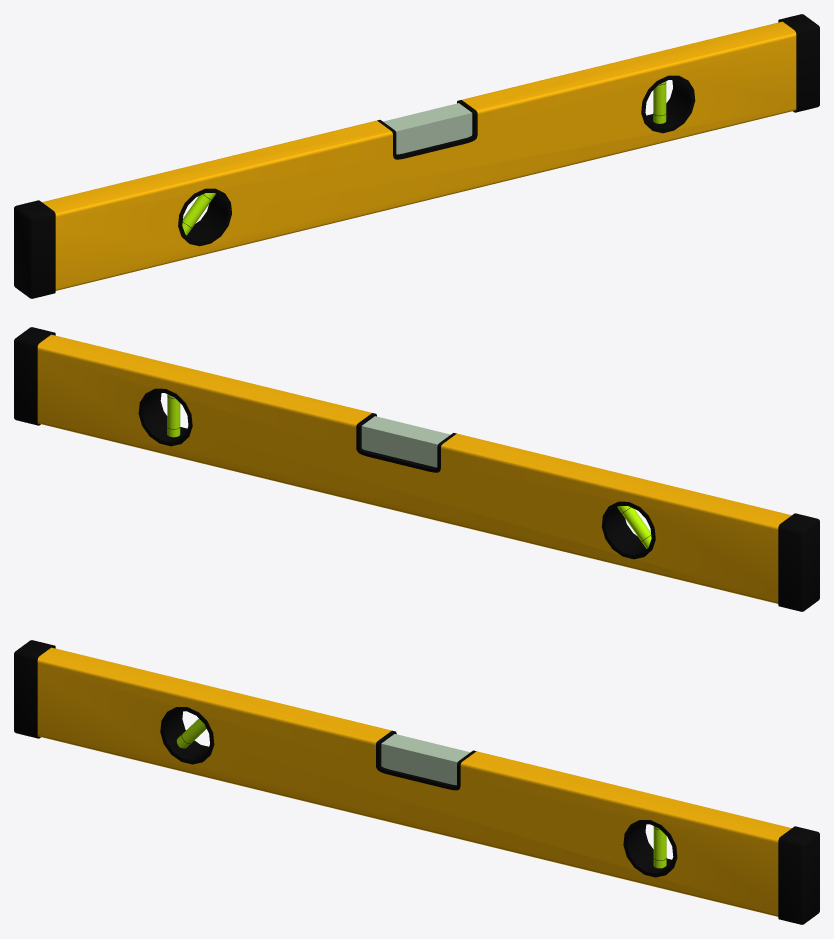
Rendered from SpiritLevel.fbx.
3 renders of one model, top to bottom at view 1: azimuth 30°, elevation 25°; view 2: azimuth 150°, elevation 25°; view 3: azimuth 330°, elevation 25°, orthographic.
Visible parts, largest first — view 1: Box001, Box003, Glass1, Box004, Tube001, Tube002, border1, level002, level003; view 2: Box001, Box003, Glass1, Box004, Tube001, Tube002, border1, level002, level003; view 3: Box001, Box004, Glass1, Box003, Tube002, Tube001, border1, level003.
Part boxes in pixels (box(x1,y1,x2,y2)): Box001: box(42, 21, 796, 290); Box003: box(14, 200, 55, 298); Glass1: box(383, 103, 472, 154); Box004: box(778, 14, 819, 112); Tube001: box(178, 188, 231, 246); Tube002: box(641, 75, 695, 133); border1: box(377, 100, 477, 159); level002: box(182, 193, 215, 235); level003: box(653, 81, 666, 123); Box001: box(37, 334, 791, 603); Box003: box(778, 513, 819, 611); Glass1: box(361, 416, 450, 467); Box004: box(14, 327, 55, 425); Tube001: box(601, 501, 655, 559); Tube002: box(138, 388, 192, 446); border1: box(356, 413, 456, 472); level002: box(617, 506, 651, 548); level003: box(167, 394, 180, 437); Box001: box(37, 647, 791, 916); Box004: box(778, 826, 819, 924); Glass1: box(381, 734, 469, 785); Box003: box(14, 640, 55, 738); Tube002: box(623, 820, 677, 877); Tube001: box(160, 707, 214, 764); border1: box(376, 730, 476, 790); level003: box(653, 826, 666, 868).
Bounding box in the file's own units: 20.33 × 2.02 × 0.825.
